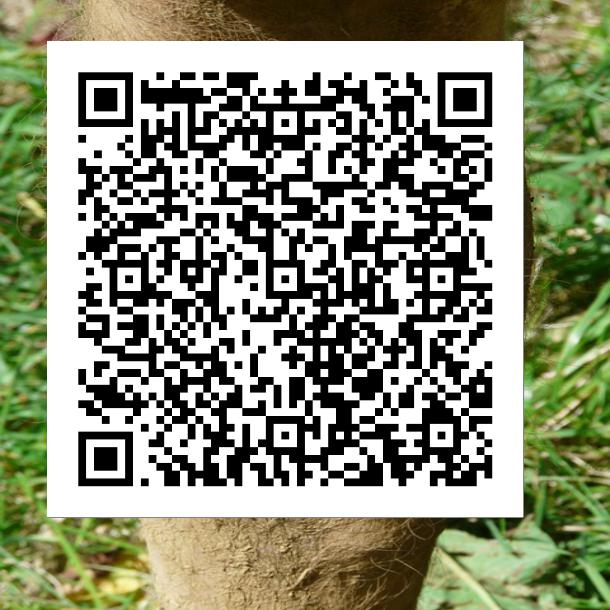qr_code: (47, 41, 523, 517)
